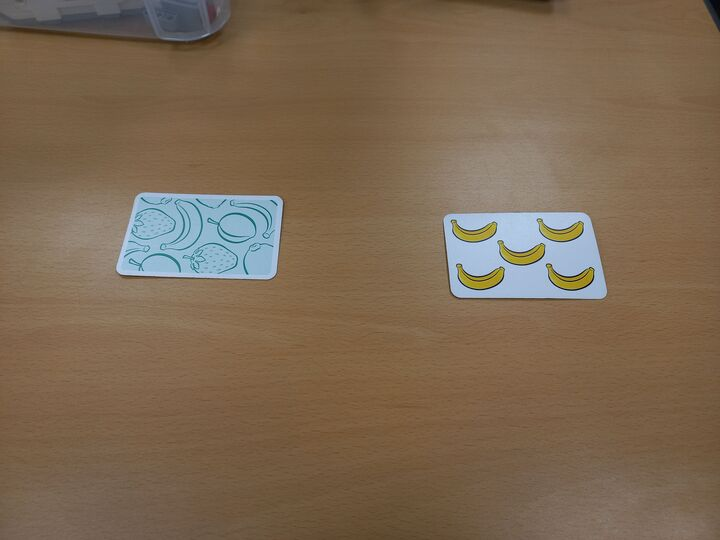banana5: (443, 212, 610, 302)
